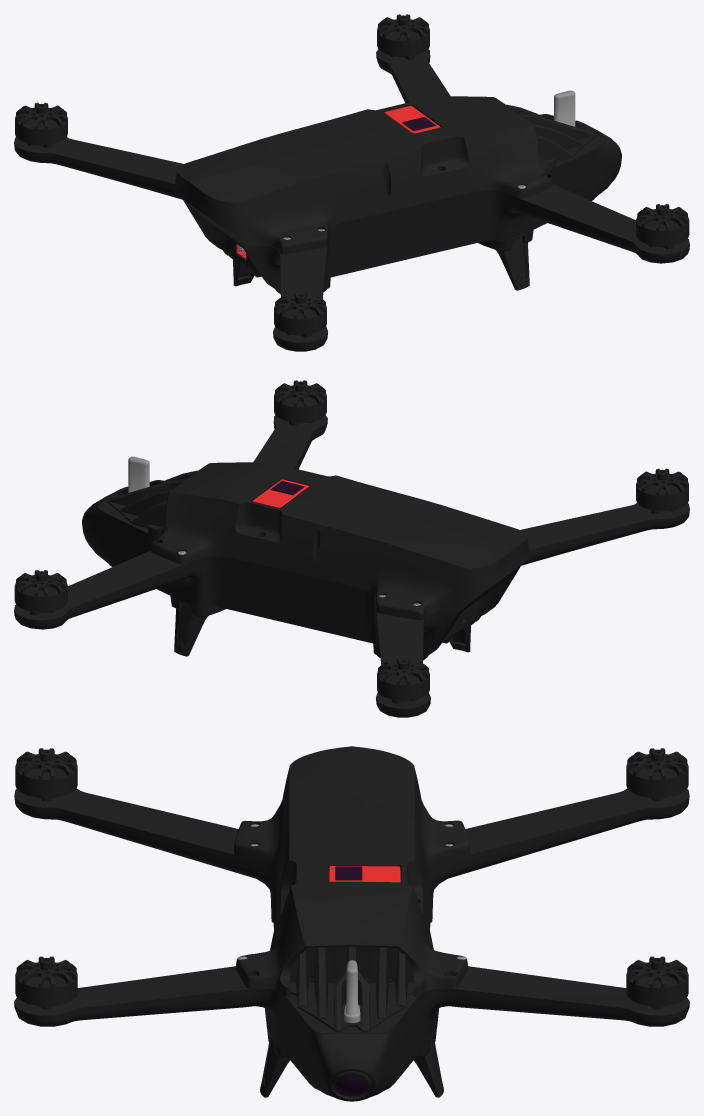
File: hull.dae
The picture shows the model from 3 angles, top to bottom: view 1: azimuth 30°, elevation 25°; view 2: azimuth 150°, elevation 25°; view 3: azimuth 270°, elevation 25°; orthographic projection. The views are drawn at different scales.
Parts seen in each view (by area): view 1: Base; view 2: Base; view 3: Base.
Boxes of the visible parts, <box> form: Base: <box>14,14,689,351</box>; Base: <box>14,380,689,717</box>; Base: <box>14,746,689,1101</box>.
Size of the model in its own units: 0.3872 by 0.4097 by 0.1218.
